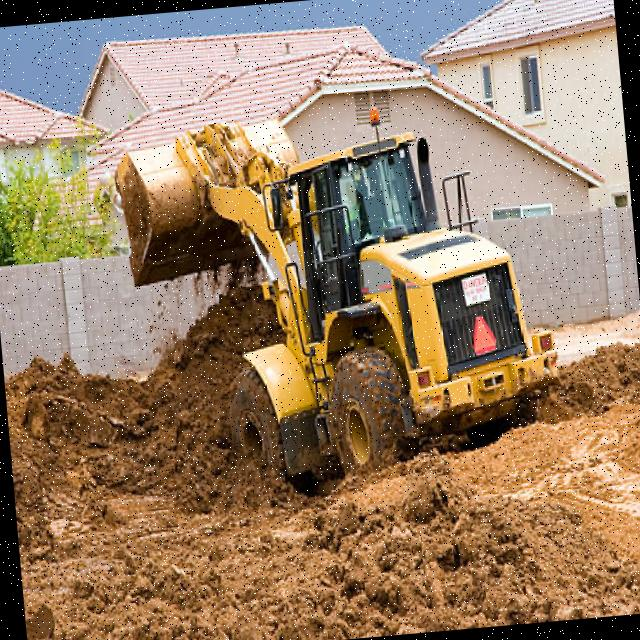Loader: (108, 90, 570, 498)
